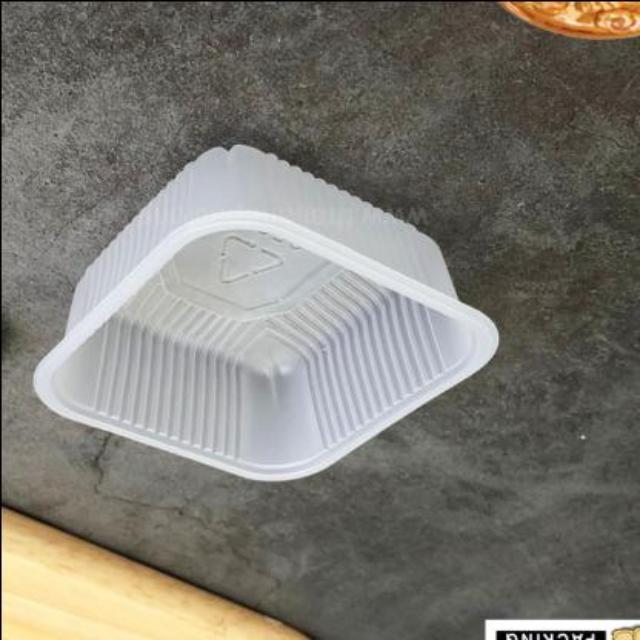plastic_box: (34, 143, 502, 484)
